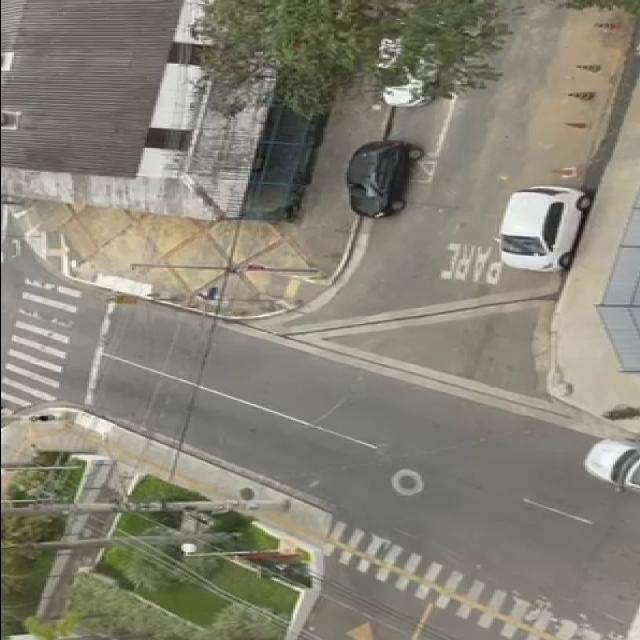car: (483, 178, 589, 274), (336, 132, 438, 230), (360, 0, 449, 109), (573, 434, 640, 504)
